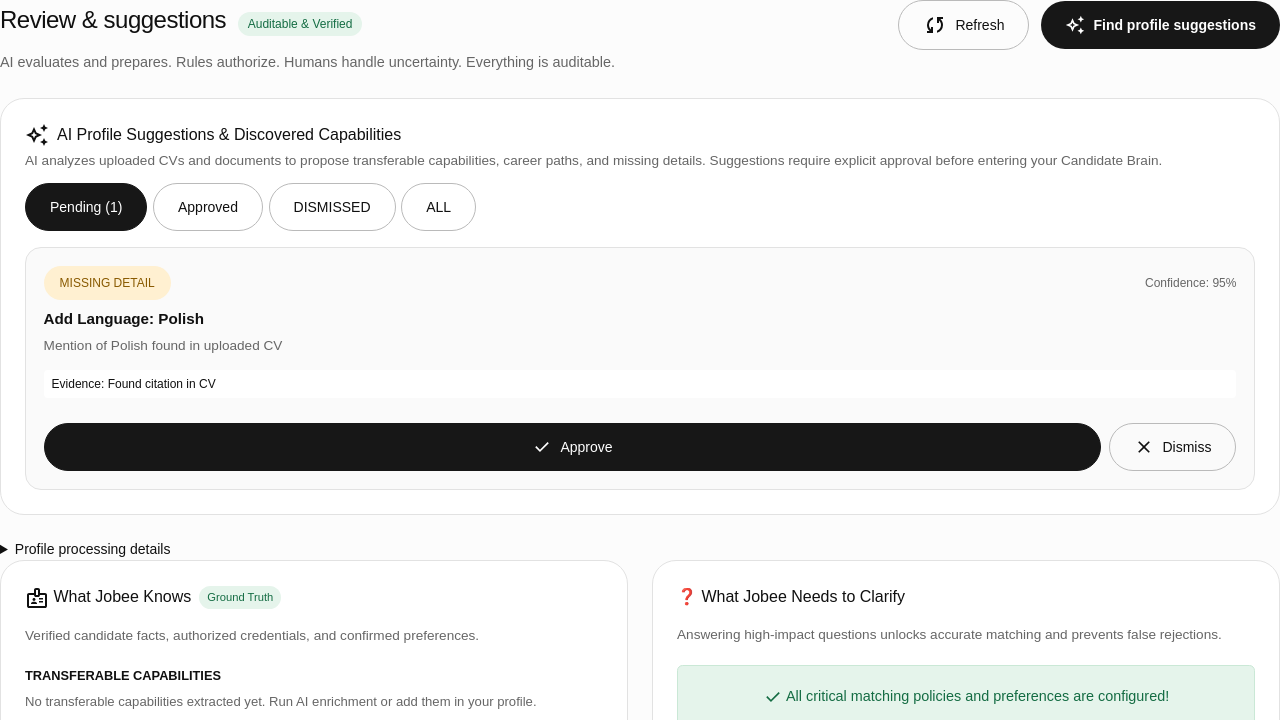
Test: CareerIntelligenceView — Verification & AI Authorization Controls › handles AI enrichment with zero new suggestions gracefully
The image size is (1280, 720).
Expected: the heading "Review & suggestions" is shown, [0,0,226,40]
Click the button "Find profile suggestions" at (1161, 25), box [1041,1,1279,49]
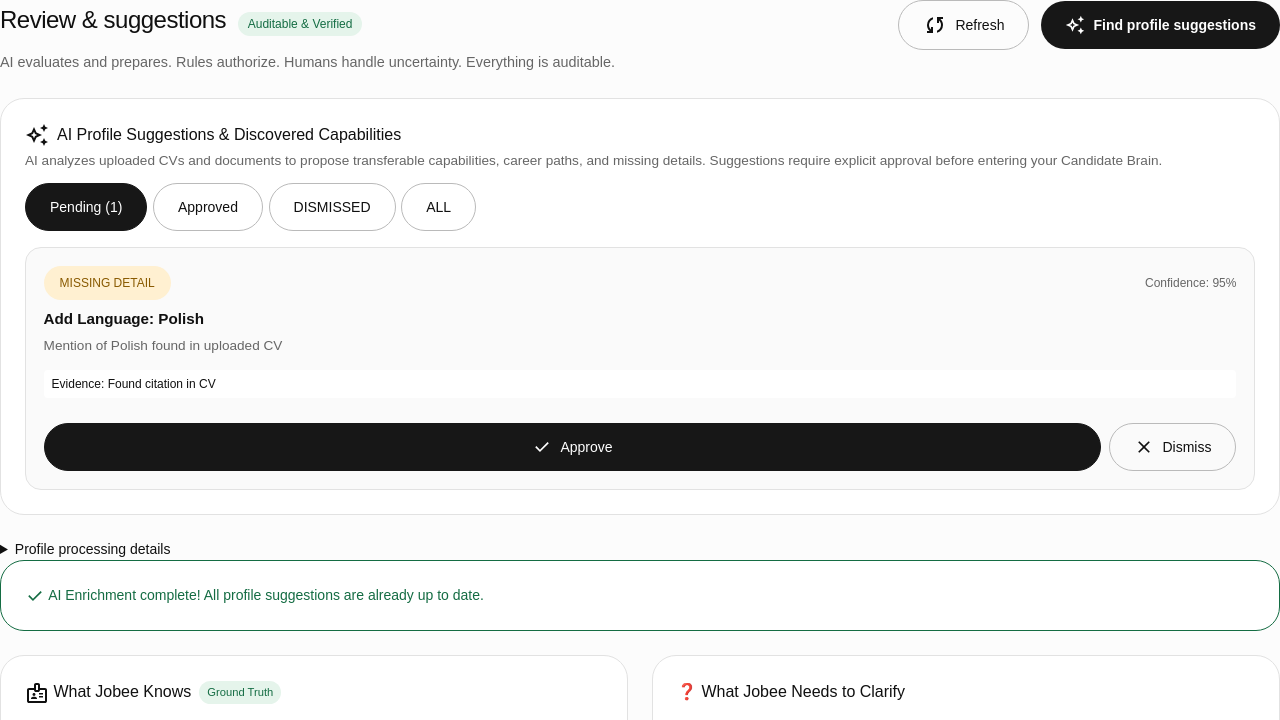
Expected: the text "All profile suggestions are already up to date." is shown, [48,587,484,603]
